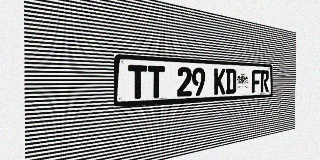2: (177, 67, 192, 97)
9: (192, 67, 205, 96)
D: (226, 69, 236, 94)
F: (252, 70, 261, 93)
K: (214, 68, 225, 95)
R: (261, 70, 269, 92)
T: (128, 65, 147, 99), (148, 65, 165, 98)
